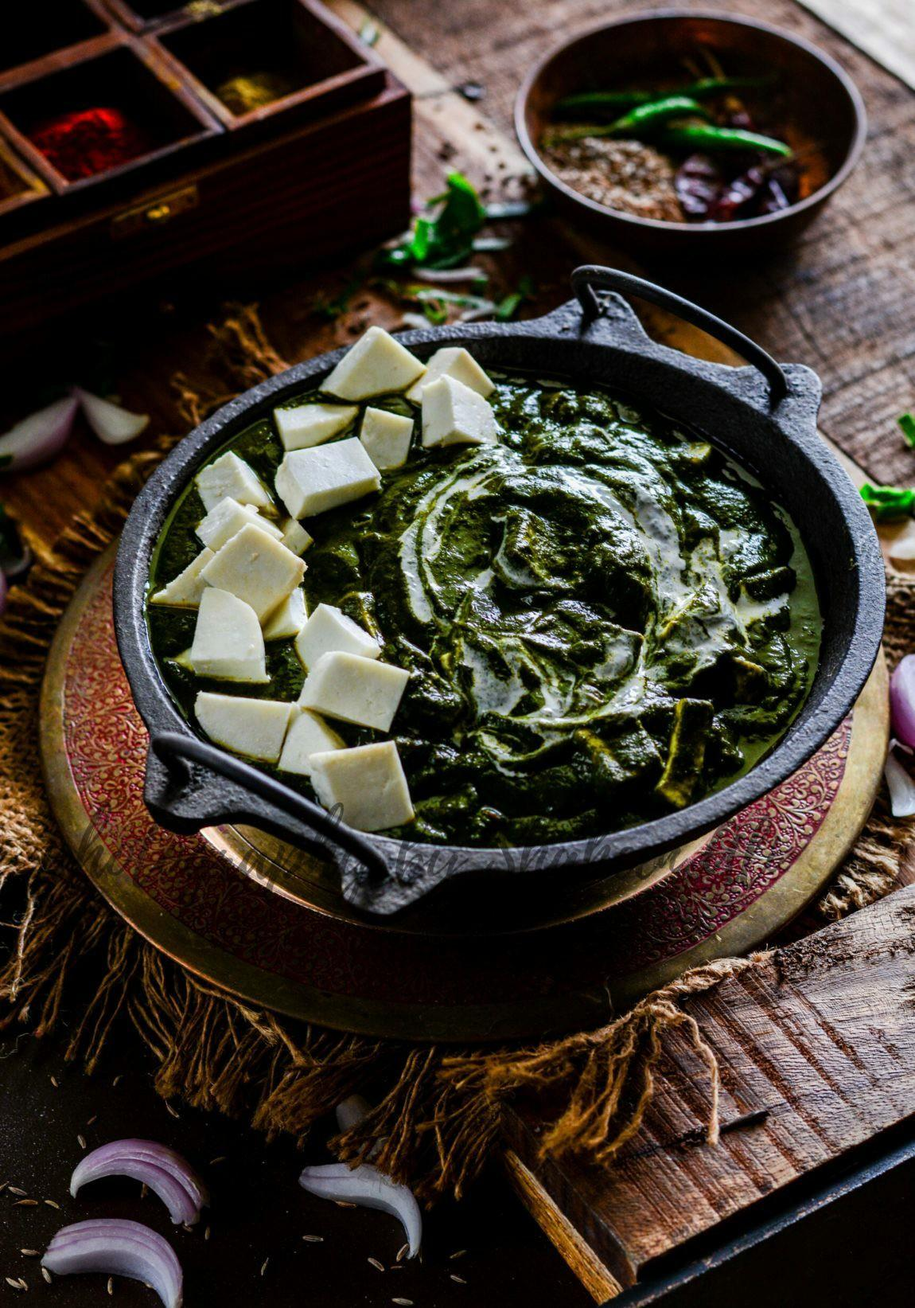PalakPaneer: (165, 336, 825, 849)
